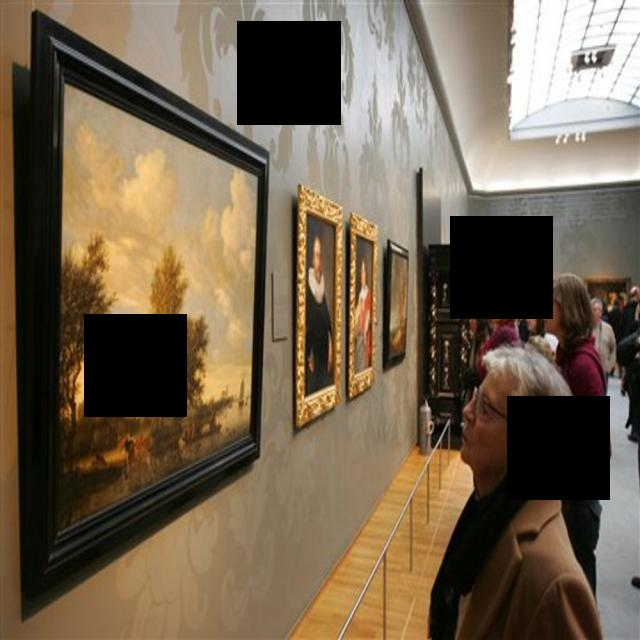Tablo: (57, 74, 261, 537), (304, 210, 337, 401), (353, 234, 376, 375), (388, 251, 408, 361)
